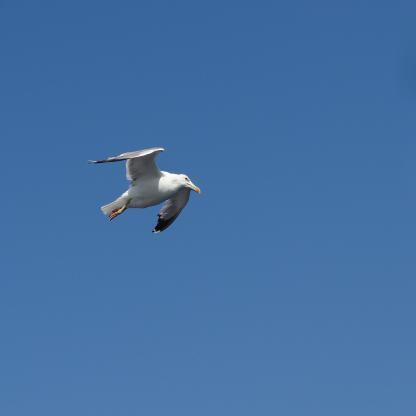bird: (88, 145, 200, 233)
